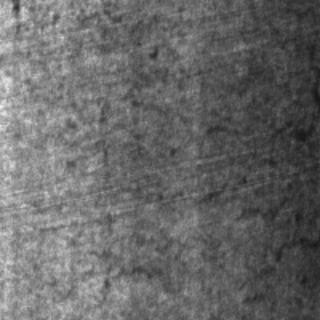crazing: (106, 114, 318, 216)
